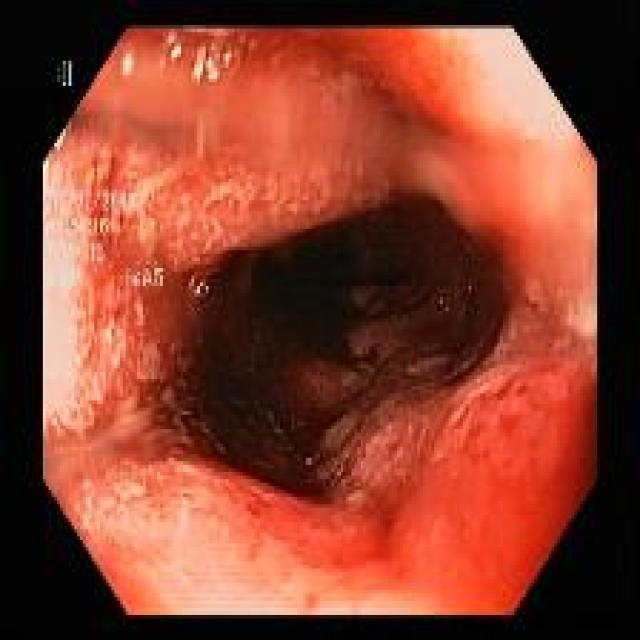ulcerative-colitis: (44, 28, 596, 615)
